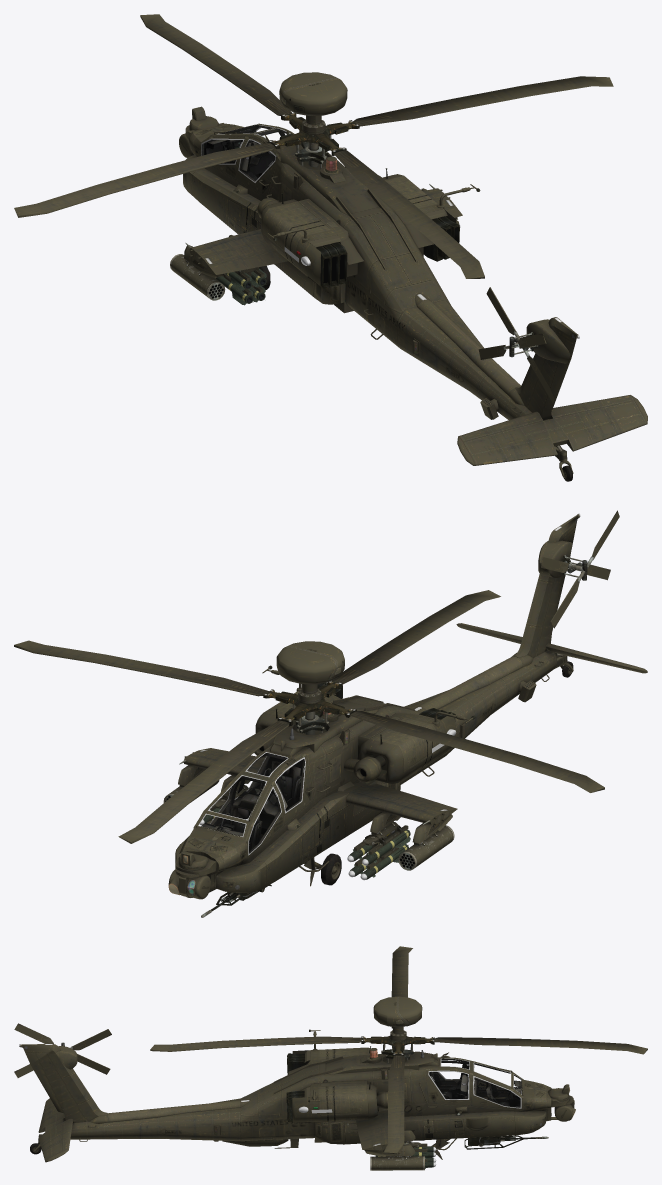
Rendered from Apache fixed.fbx.
3 views of the same model, one above another, from view 1: azimuth 30°, elevation 25°; view 2: azimuth 150°, elevation 25°; view 3: azimuth 270°, elevation 25° (orthographic). The views are drawn at different scales.
Parts seen in each view (by area): view 1: Apache, Apache.001, Apache.002; view 2: Apache, Apache.001, Apache.002; view 3: Apache, Apache.001, Apache.002, Apache.003.
Part boxes in pixels (box(x1,y1,x2,y2)): Apache: box(170, 106, 647, 481); Apache.001: box(14, 14, 613, 278); Apache.002: box(478, 287, 554, 402); Apache: box(163, 513, 647, 899); Apache.001: box(14, 590, 604, 843); Apache.002: box(541, 510, 619, 628); Apache: box(19, 1029, 575, 1170); Apache.001: box(150, 946, 647, 1154); Apache.002: box(14, 1023, 111, 1077); Apache.003: box(464, 1135, 548, 1149).
Size of the model in its own units: 16089 by 5506 by 21075.
